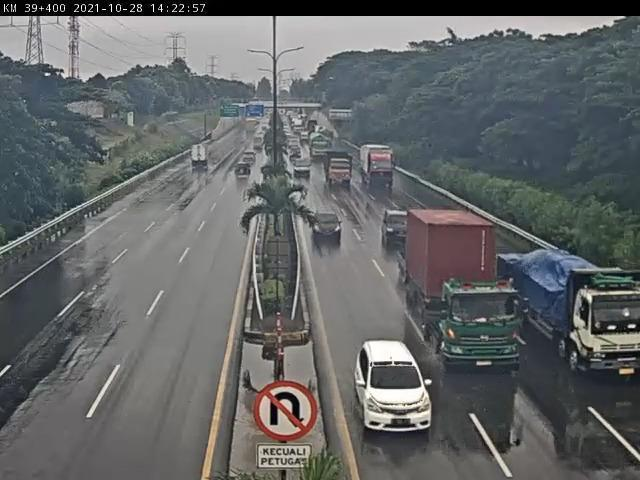truck: (404, 206, 524, 368), (498, 253, 640, 378), (360, 146, 396, 185), (323, 149, 356, 190)
